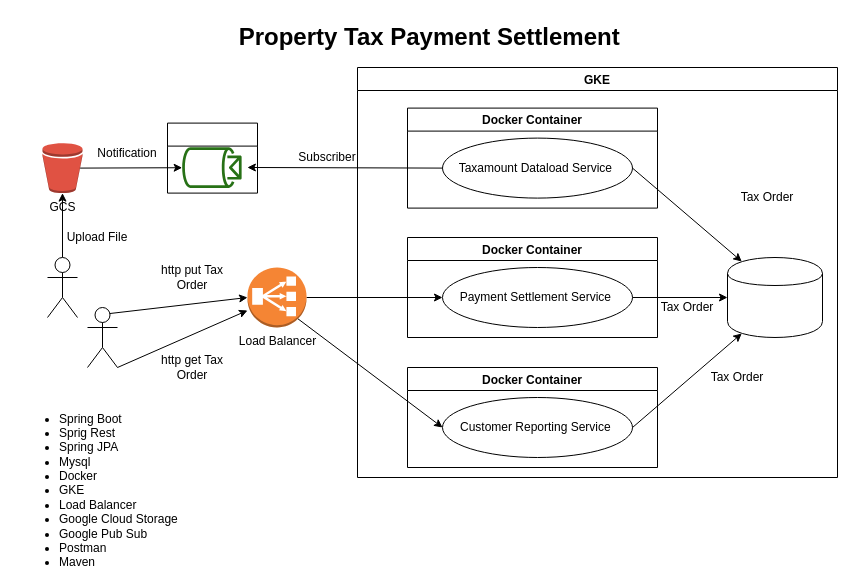
Image size: 855x586. Some labels were removed from this diagram. Here are the shapes that lost their labels. From the top down, the centre of each, then its label:
At (212,157): "PubSub".
At (62,287): "Actor".
At (774,297): "Payment Tax Order DB".
At (102,337): "Postman Actor".
